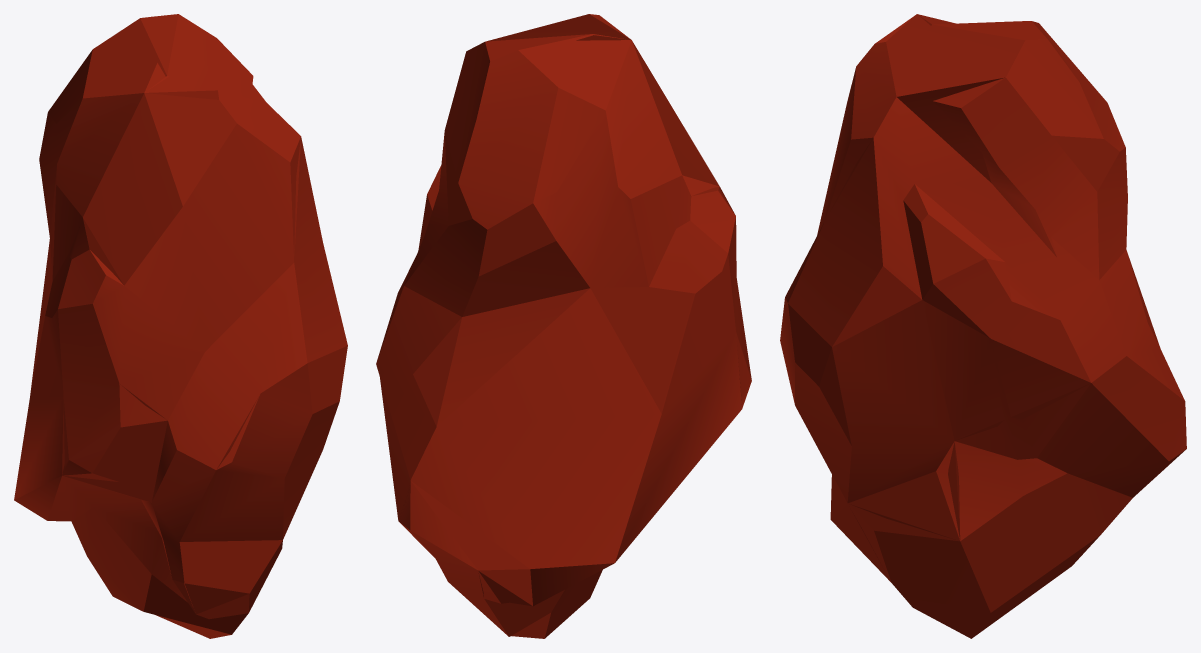
File: SM_Large_Rock_03.fbx
3 views of the same model, side by side, from view 1: azimuth 30°, elevation 25°; view 2: azimuth 150°, elevation 25°; view 3: azimuth 270°, elevation 25° (orthographic). The views are drawn at different scales.
Parts seen in each view (by area): view 1: SM_Large_Rock_03, SM_Large_Rock_03_col; view 2: SM_Large_Rock_03, SM_Large_Rock_03_col; view 3: SM_Large_Rock_03, SM_Large_Rock_03_col.
Boxes of the visible parts, x1=… form: SM_Large_Rock_03: x1=14, y1=14, x2=347, y2=638; SM_Large_Rock_03_col: x1=14, y1=14, x2=346, y2=614; SM_Large_Rock_03: x1=376, y1=14, x2=751, y2=638; SM_Large_Rock_03_col: x1=377, y1=14, x2=741, y2=612; SM_Large_Rock_03: x1=780, y1=15, x2=1186, y2=638; SM_Large_Rock_03_col: x1=789, y1=14, x2=1185, y2=635.
Size of the model in its own units: 98.88 by 208 by 128.
